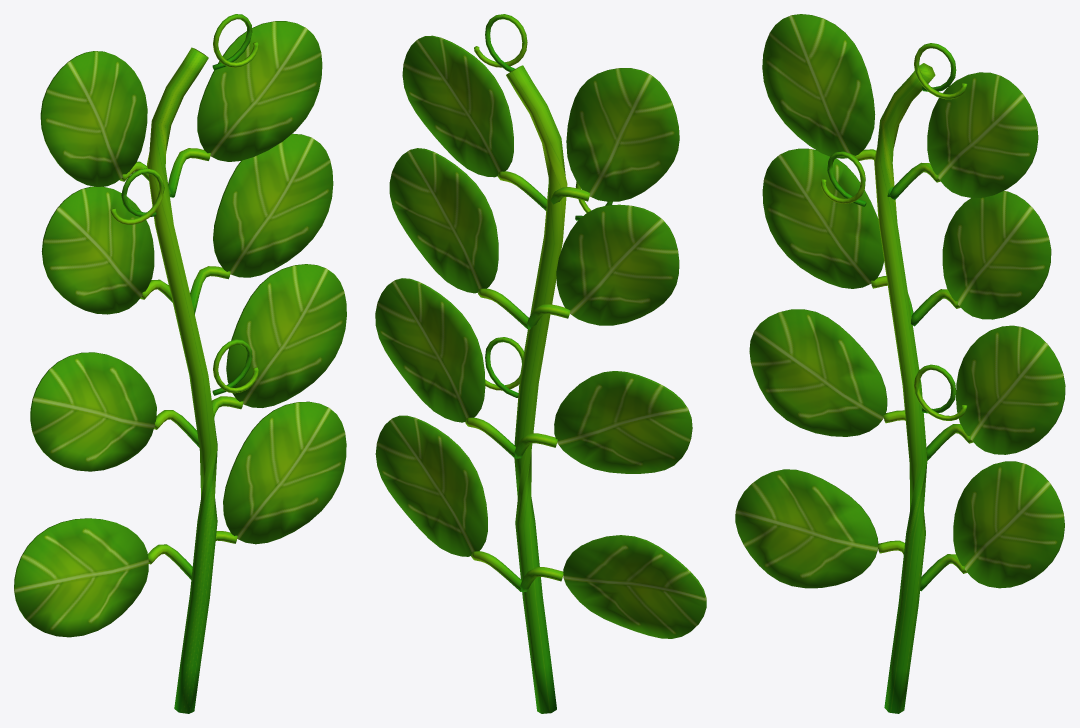
Rendered from NP_Pea_Young.fbx.
3 views of the same model, side by side, from view 1: azimuth 30°, elevation 25°; view 2: azimuth 150°, elevation 25°; view 3: azimuth 330°, elevation 25° (orthographic).
Visible parts, largest first — view 1: NP_Pea_Young; view 2: NP_Pea_Young; view 3: NP_Pea_Young.
Part boxes in pixels (left/top/right/bottom): NP_Pea_Young: left=14, top=14, right=346, bottom=713; NP_Pea_Young: left=375, top=14, right=706, bottom=713; NP_Pea_Young: left=735, top=14, right=1065, bottom=713.
Size of the model in its own units: 33.92 by 67.18 by 4.09.
